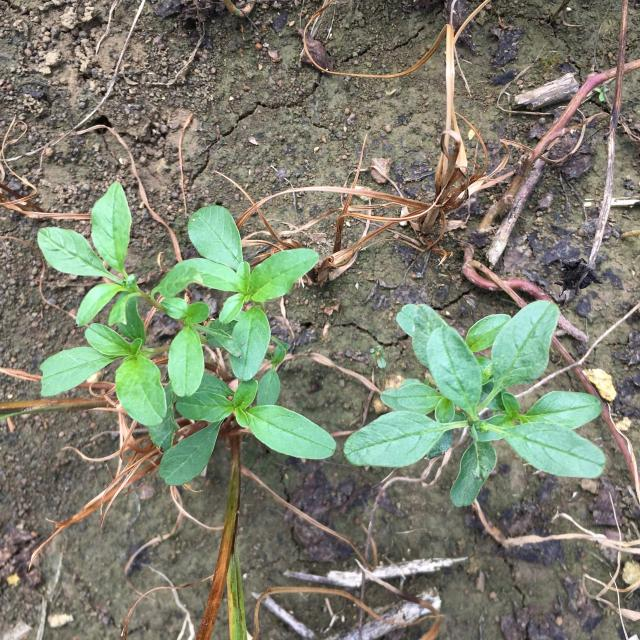Waterhemp: (38, 181, 338, 486), (343, 300, 607, 508)
